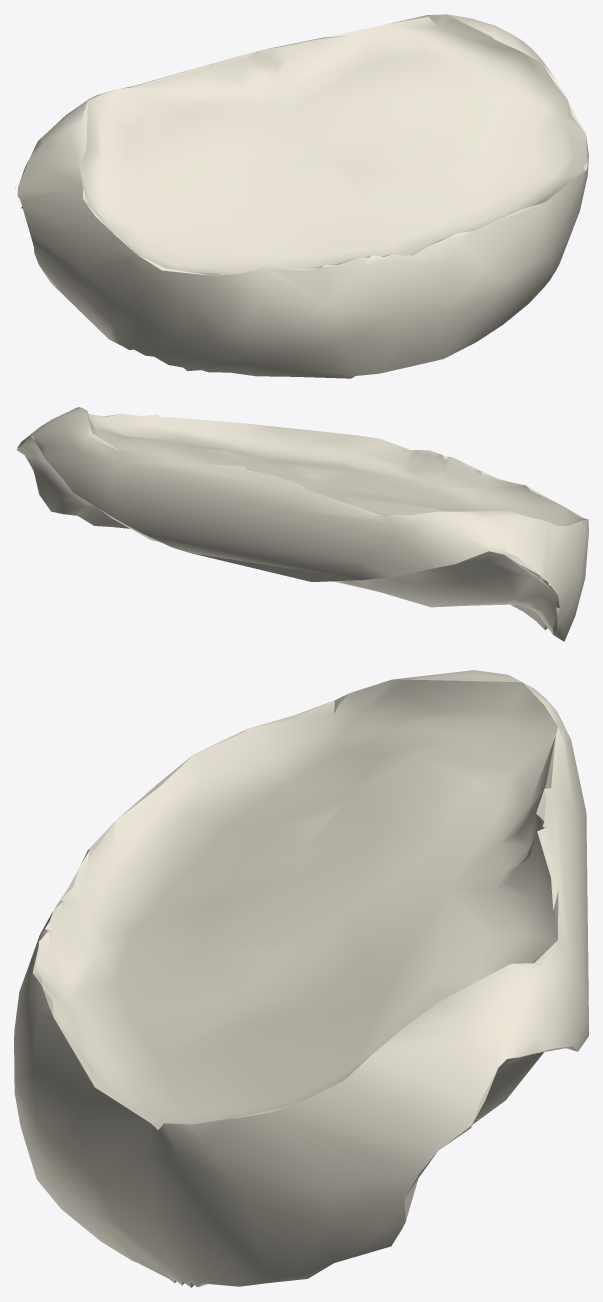
Rendered from fma13900_fj3221.glb.
3 views of the same model, one above another, from view 1: azimuth 30°, elevation 25°; view 2: azimuth 150°, elevation 25°; view 3: azimuth 270°, elevation 25° (orthographic). The views are drawn at different scales.
Visible parts, largest first — view 1: FMA13900_FJ3221; view 2: FMA13900_FJ3221; view 3: FMA13900_FJ3221.
Part boxes in pixels (box(x1,y1,x2,y2)): FMA13900_FJ3221: box(15, 14, 588, 378); FMA13900_FJ3221: box(16, 407, 588, 641); FMA13900_FJ3221: box(14, 670, 588, 1287).
Bounding box in the file's own units: 0.0313 × 0.0117 × 0.0178.
